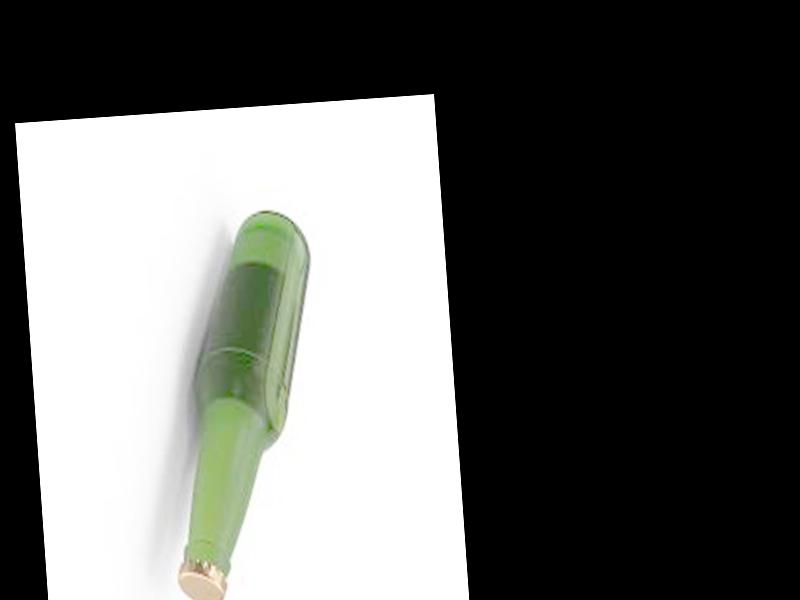Beer: (152, 207, 334, 600)
